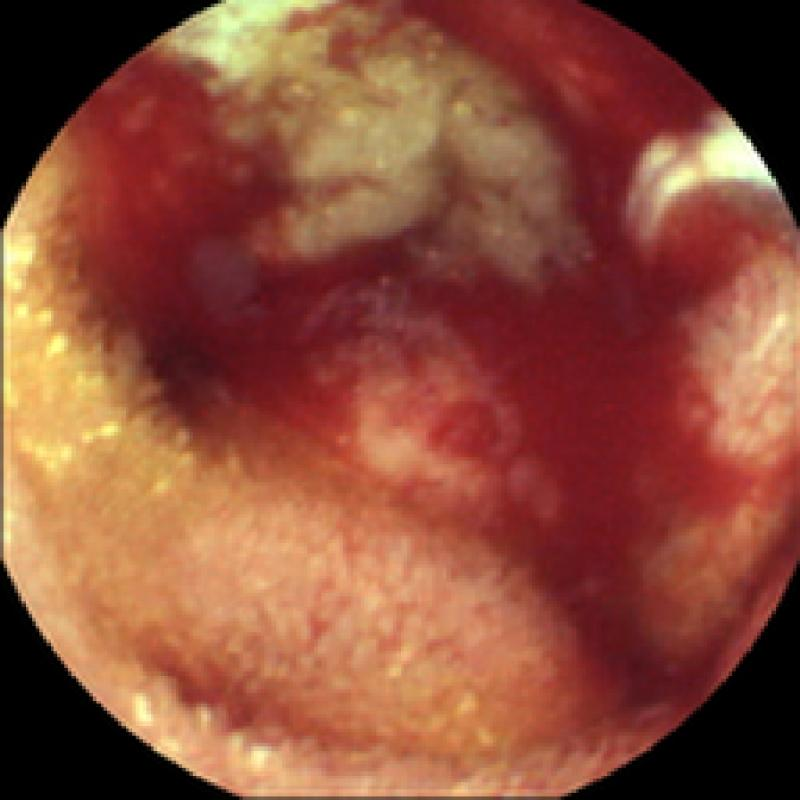bleeding: (93, 39, 753, 661)
